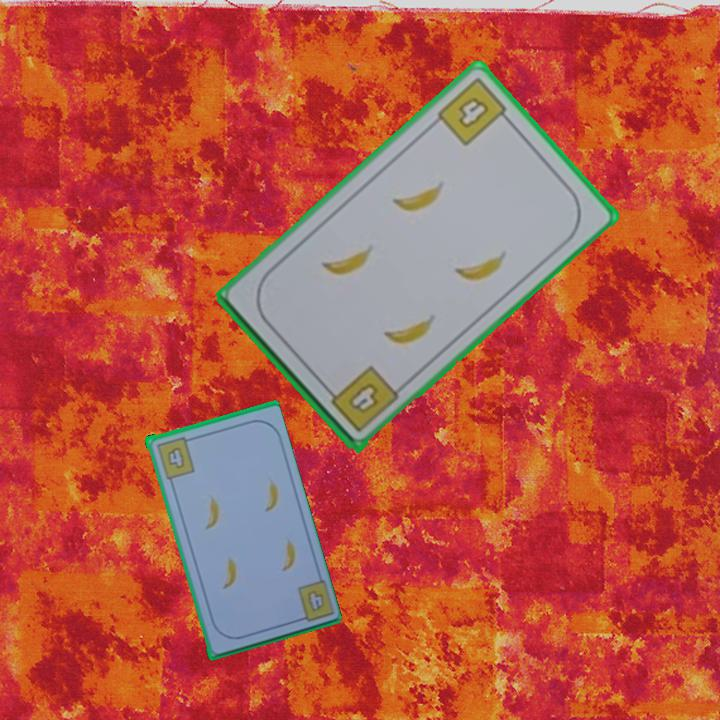4b: (433, 73, 515, 149), (321, 361, 402, 436), (152, 433, 197, 481), (291, 576, 335, 625)
